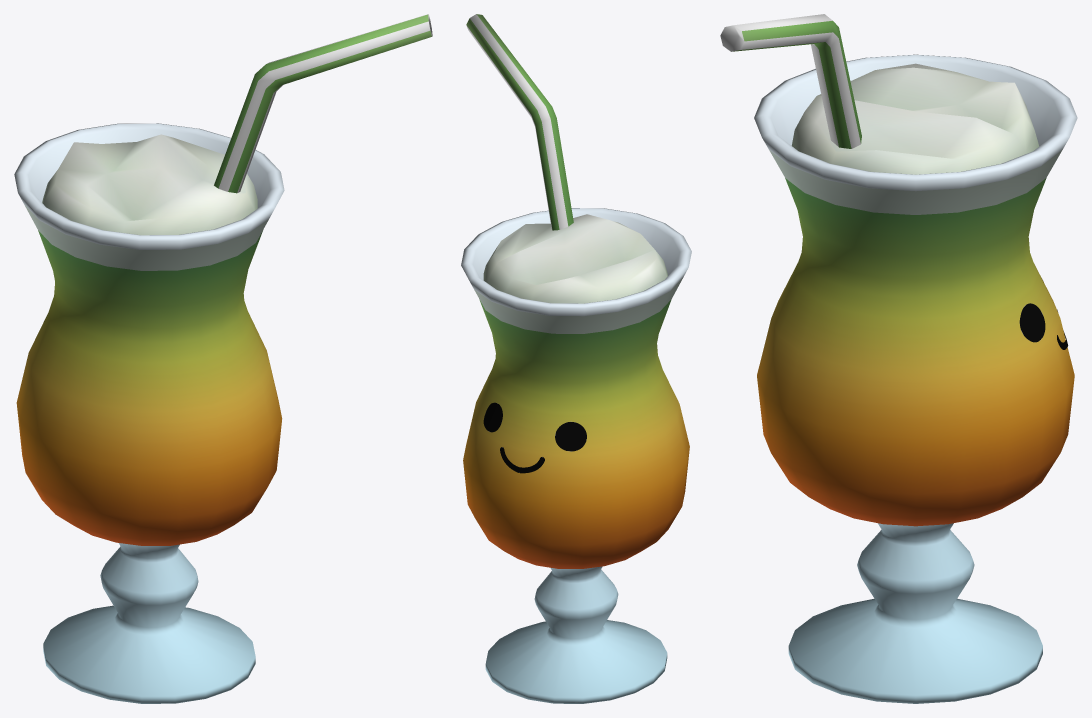
Rendered from cocktail_smile.fbx.
3 views of the same model, side by side, from view 1: azimuth 30°, elevation 25°; view 2: azimuth 150°, elevation 25°; view 3: azimuth 270°, elevation 25° (orthographic). The views are drawn at different scales.
Parts seen in each view (by area): view 1: cocktail_smile; view 2: cocktail_smile; view 3: cocktail_smile.
Boxes of the visible parts, bbox=[...] form: cocktail_smile: bbox=[14, 14, 432, 703]; cocktail_smile: bbox=[461, 14, 691, 703]; cocktail_smile: bbox=[720, 14, 1077, 703].
Size of the model in its own units: 53.24 by 45.64 by 104.
